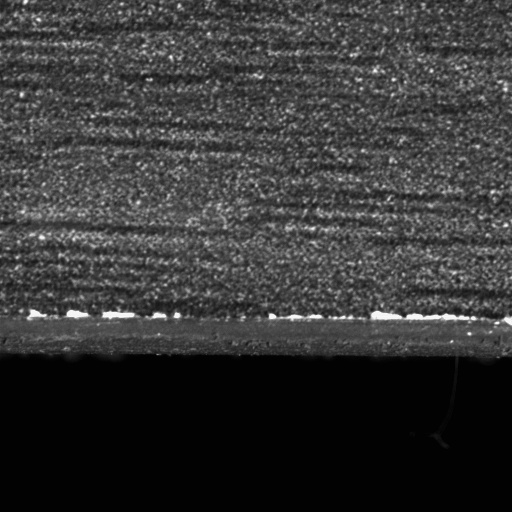huashang: (370, 310, 476, 323), (100, 311, 140, 320), (66, 310, 90, 320)
